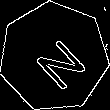N_NW: (23, 25, 86, 89)
